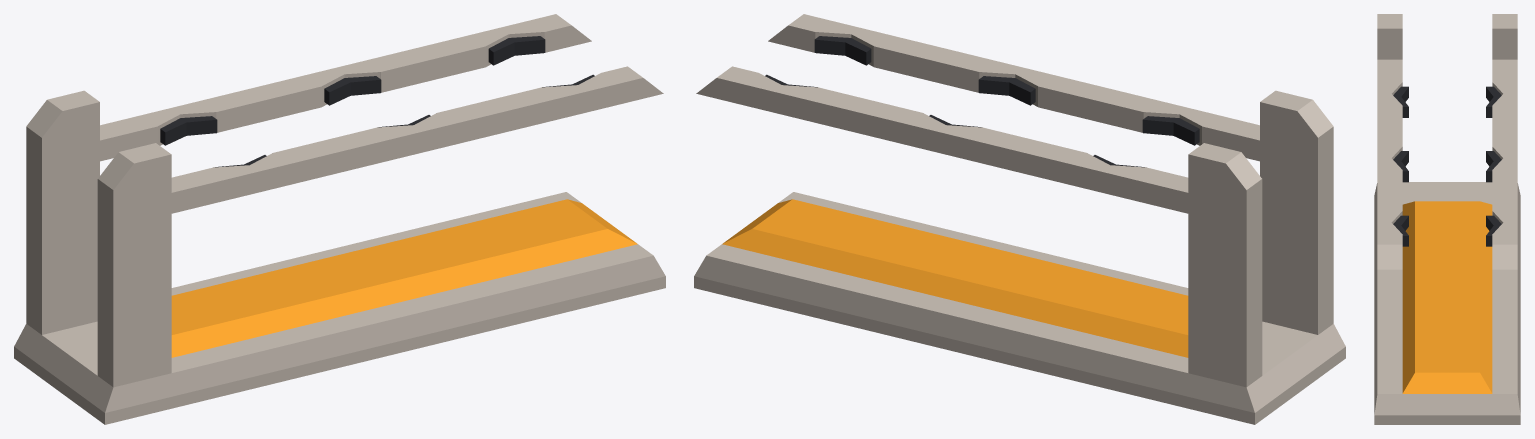
Rendered from SM_Mixture_Stand.glb.
The picture shows the model from 3 angles, left to right: view 1: azimuth 30°, elevation 25°; view 2: azimuth 150°, elevation 25°; view 3: azimuth 270°, elevation 25°; orthographic projection. The views are drawn at different scales.
Parts seen in each view (by area): view 1: SM_Mixture_Stand; view 2: SM_Mixture_Stand; view 3: SM_Mixture_Stand.
Part boxes in pixels (x1,y1,x2,y2): SM_Mixture_Stand: (14, 14, 665, 424); SM_Mixture_Stand: (694, 14, 1345, 424); SM_Mixture_Stand: (1374, 14, 1520, 424).
Size of the model in its own units: 0.2303 by 0.0991 by 0.0646.
Materials: 1 (1 with a texture image).
